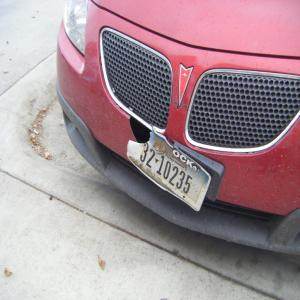Vehicle-registration-plate: (148, 151, 211, 206)
